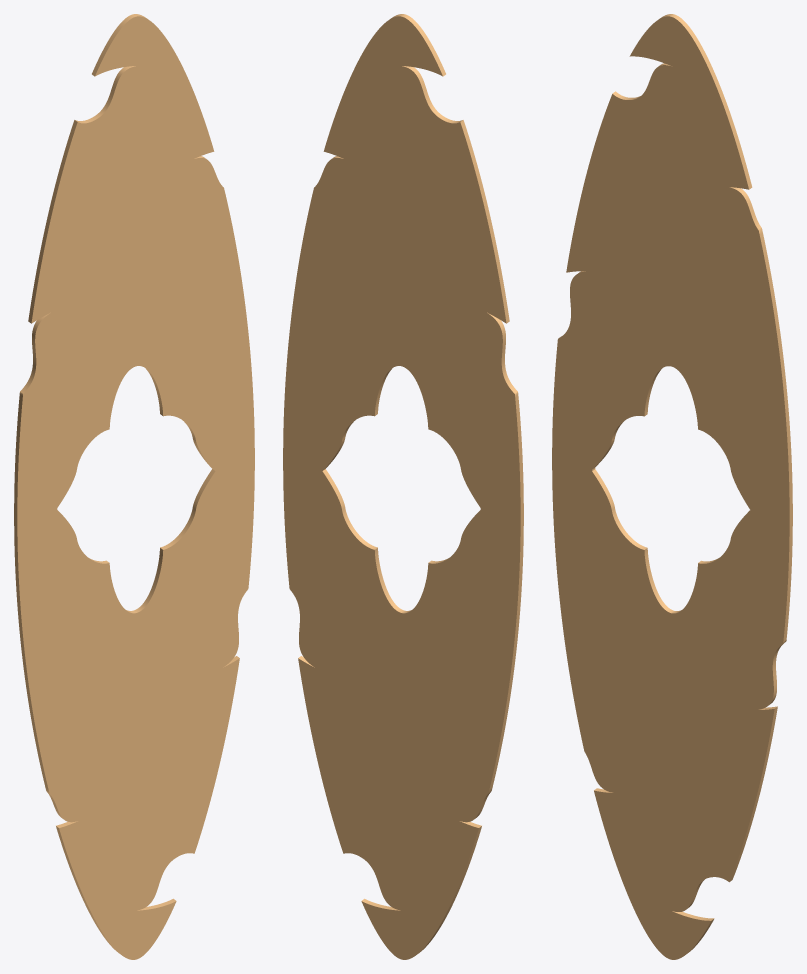
File: glassGold.glb
The picture shows the model from 3 angles, left to right: view 1: azimuth 30°, elevation 25°; view 2: azimuth 150°, elevation 25°; view 3: azimuth 330°, elevation 25°; orthographic projection.
Parts seen in each view (by area): view 1: glassGold; view 2: glassGold; view 3: glassGold.
Part boxes in pixels (x1,y1,x2,y2): glassGold: (14,14,254,959); glassGold: (283,14,523,959); glassGold: (552,14,792,959).
Bounding box in the file's own units: 23.34 × 88.55 × 0.55.
